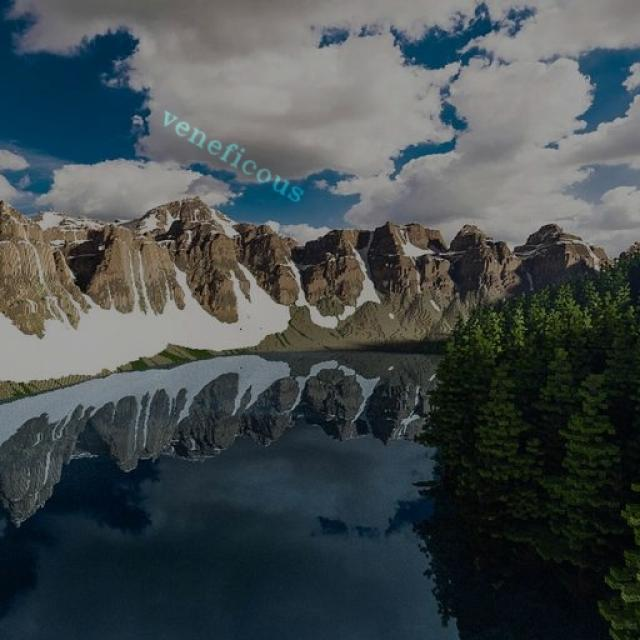watermark: (150, 100, 318, 208)
